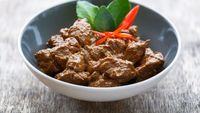rendang: (30, 7, 175, 98)
